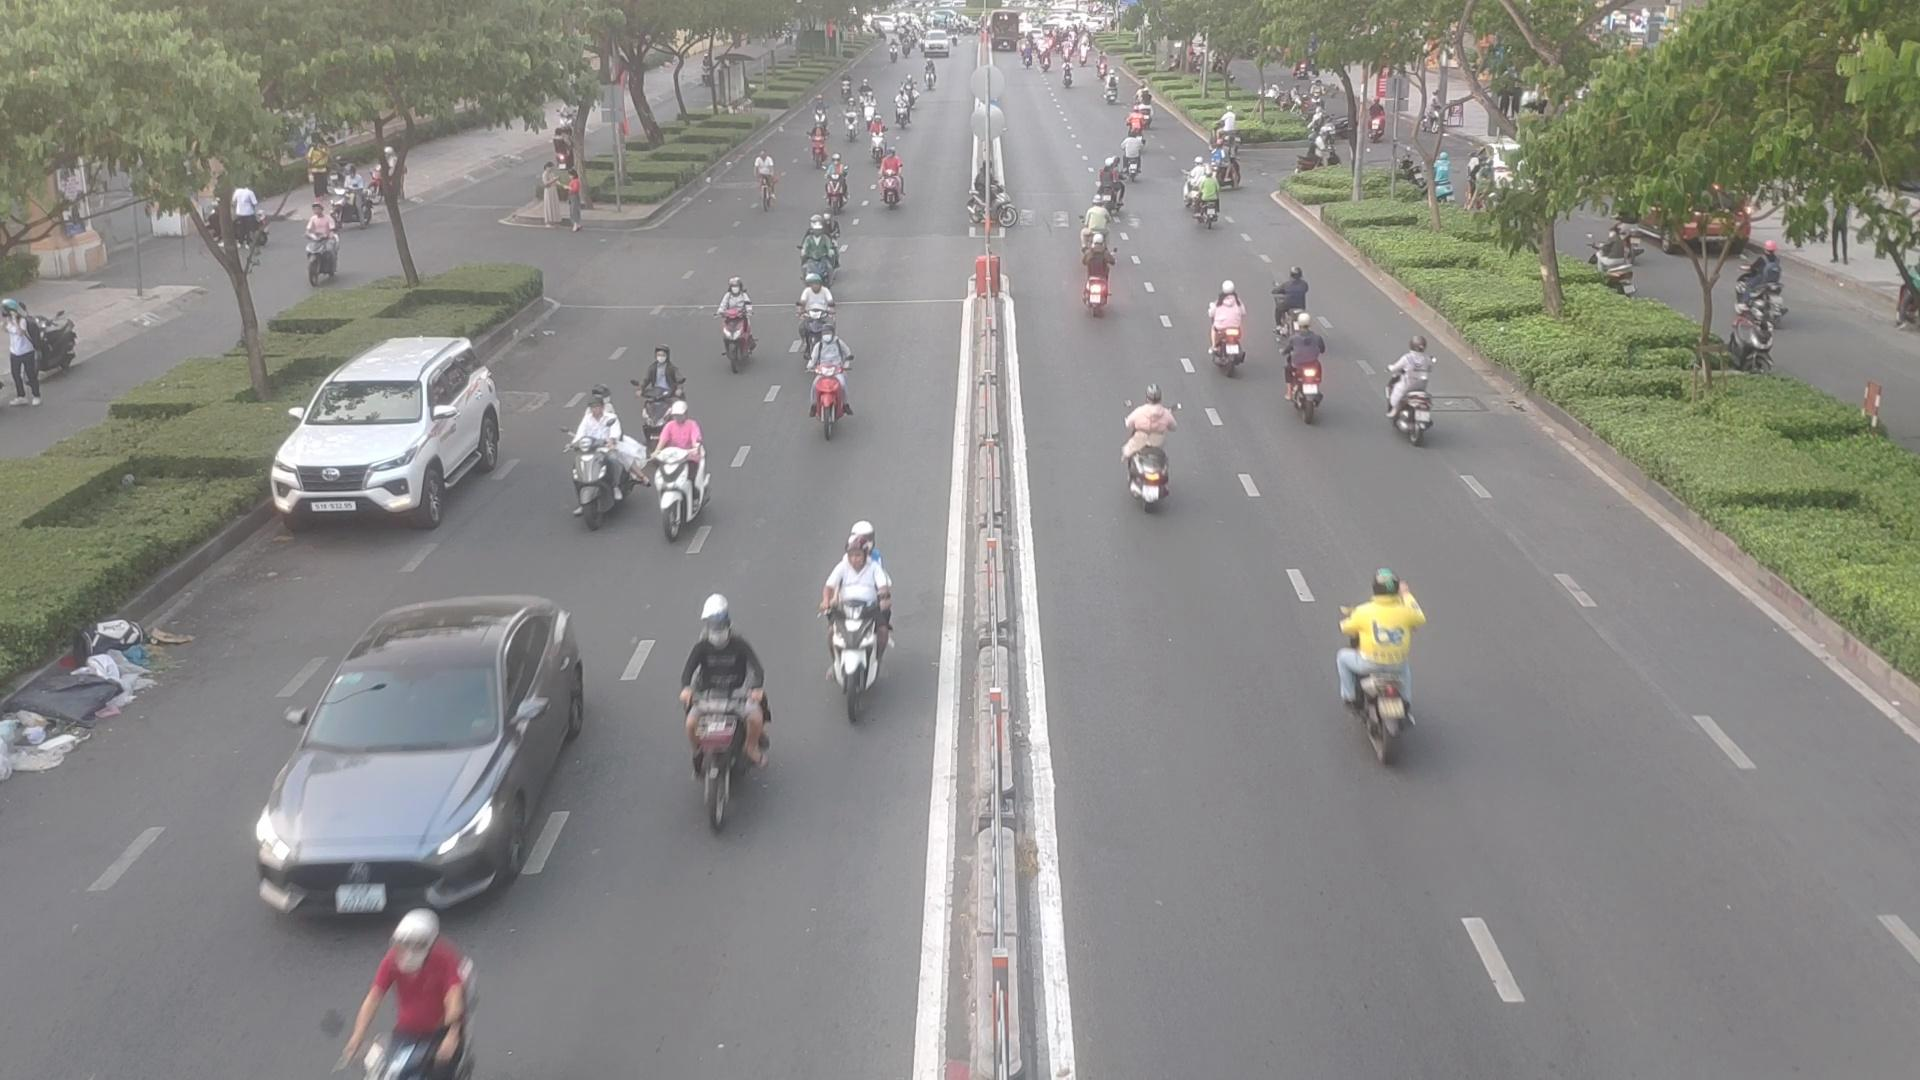car: (258, 593, 585, 934), (278, 332, 518, 525)
motorbike: (328, 932, 489, 1076), (665, 620, 766, 832), (1323, 564, 1422, 752), (825, 531, 899, 723), (571, 397, 653, 525), (650, 405, 716, 535), (802, 318, 864, 435), (1121, 396, 1182, 512), (1379, 339, 1441, 442), (703, 276, 758, 375), (1276, 319, 1329, 419), (636, 343, 692, 425), (1209, 287, 1255, 378), (1072, 236, 1120, 316), (798, 224, 849, 291), (1180, 165, 1221, 225), (872, 154, 907, 212)
